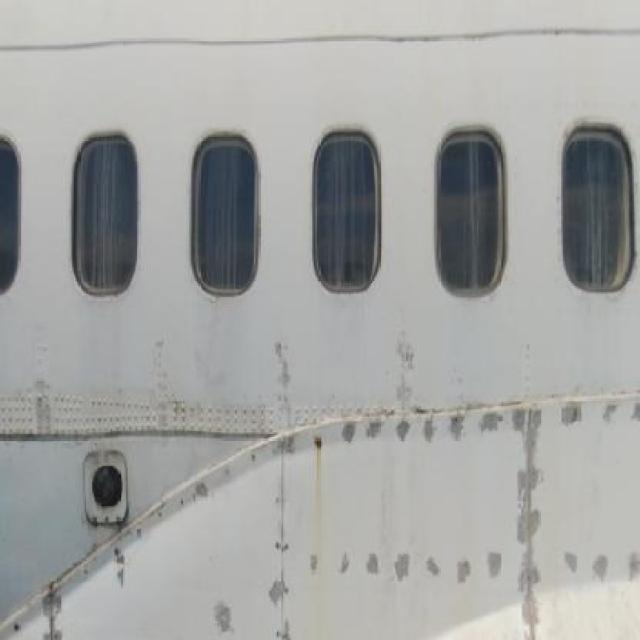Missing-Rivet: (306, 546, 640, 597), (152, 452, 256, 522), (342, 417, 501, 449), (1, 578, 76, 638), (76, 524, 152, 578), (272, 489, 297, 640)
Rust: (308, 428, 332, 555)
Scartch: (304, 526, 640, 608), (328, 403, 638, 471), (508, 394, 550, 640), (20, 325, 68, 463), (263, 478, 302, 639), (262, 316, 306, 452), (145, 323, 184, 459), (23, 558, 80, 640), (388, 297, 420, 428), (198, 569, 248, 640)
